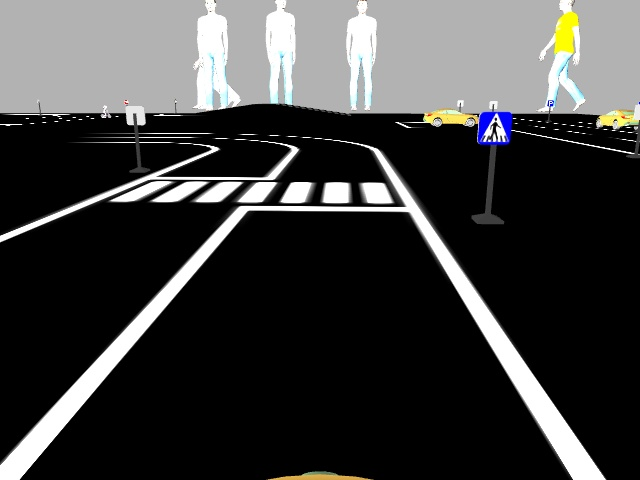Crosswalk: (478, 111, 512, 145)
